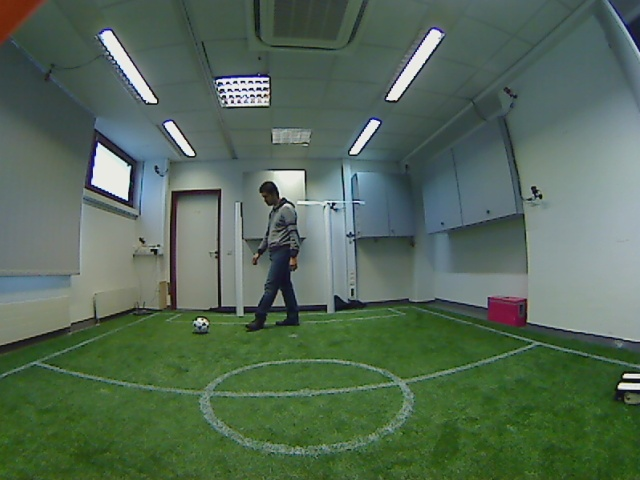ball: (189, 314, 214, 337)
